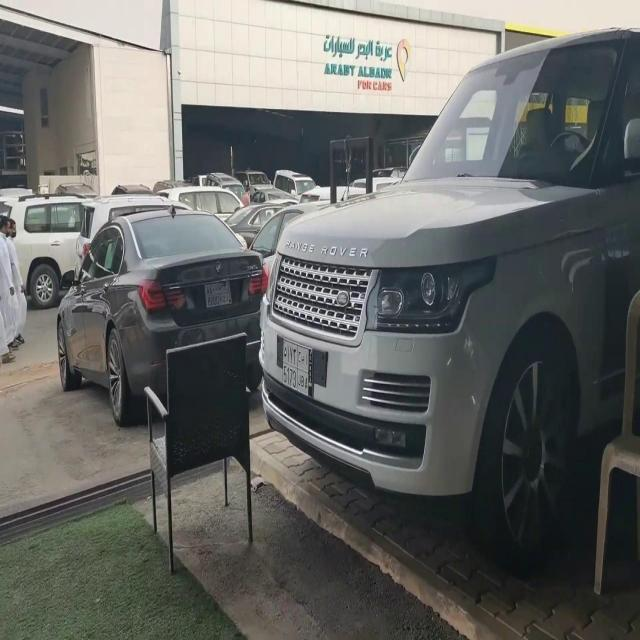license_plate: (274, 331, 312, 398), (202, 273, 232, 310)
